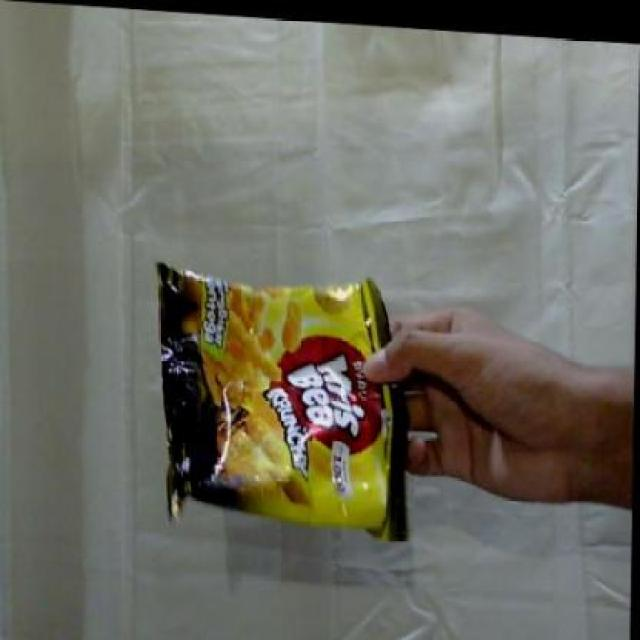Plastic: (145, 245, 419, 554)
